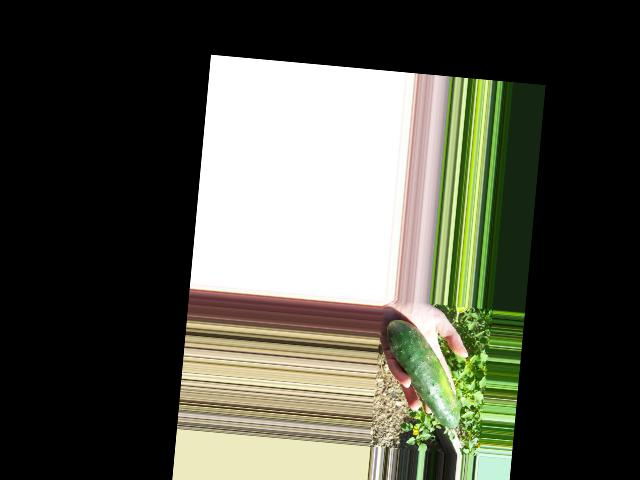cucumber: (378, 319, 467, 429)
